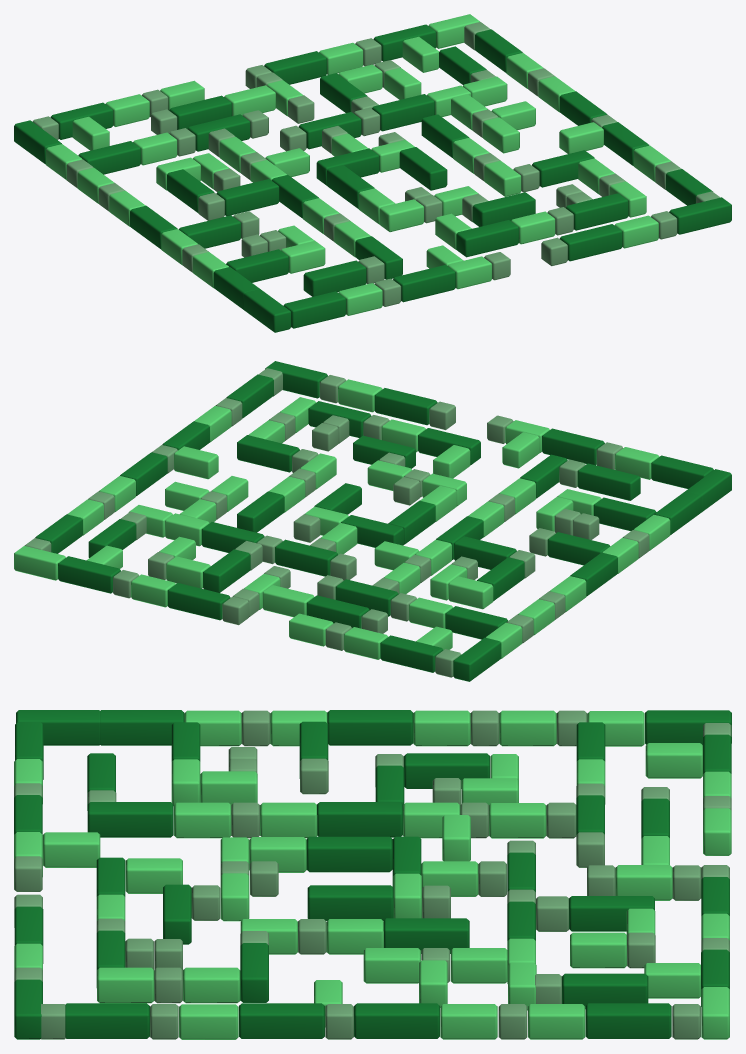
Rendered from SM_Maze_04a.fbx.
The picture shows the model from 3 angles, top to bottom: view 1: azimuth 30°, elevation 25°; view 2: azimuth 150°, elevation 25°; view 3: azimuth 270°, elevation 25°; orthographic projection. The views are drawn at different scales.
Parts seen in each view (by area): view 1: cespuglio_low193, cespuglio_low173, cespuglio_low462; view 2: cespuglio_low193, cespuglio_low173, cespuglio_low462; view 3: cespuglio_low173, cespuglio_low193, cespuglio_low462.
Part boxes in pixels (x1=…): cespuglio_low193: x1=14, y1=24, x2=731, y2=332; cespuglio_low173: x1=46, y1=14, x2=671, y2=315; cespuglio_low462: x1=32, y1=22, x2=720, y2=306; cespuglio_low193: x1=35, y1=361, x2=731, y2=681; cespuglio_low173: x1=14, y1=379, x2=670, y2=659; cespuglio_low462: x1=24, y1=368, x2=649, y2=677; cespuglio_low173: x1=14, y1=710, x2=731, y2=1039; cespuglio_low193: x1=14, y1=710, x2=731, y2=1039; cespuglio_low462: x1=14, y1=710, x2=731, y2=1039.
Bounding box in the file's own units: 2523 × 102 × 2503.
